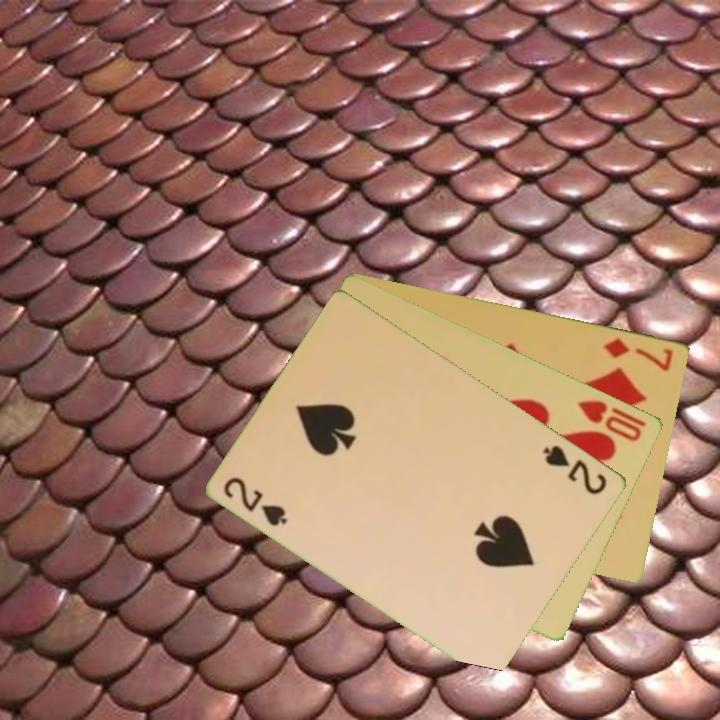10h: (574, 396, 650, 444)
2s: (540, 441, 611, 498), (220, 473, 292, 529)
7d: (600, 333, 677, 374)
